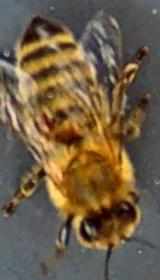varroa_mite: (23, 104, 62, 140)
